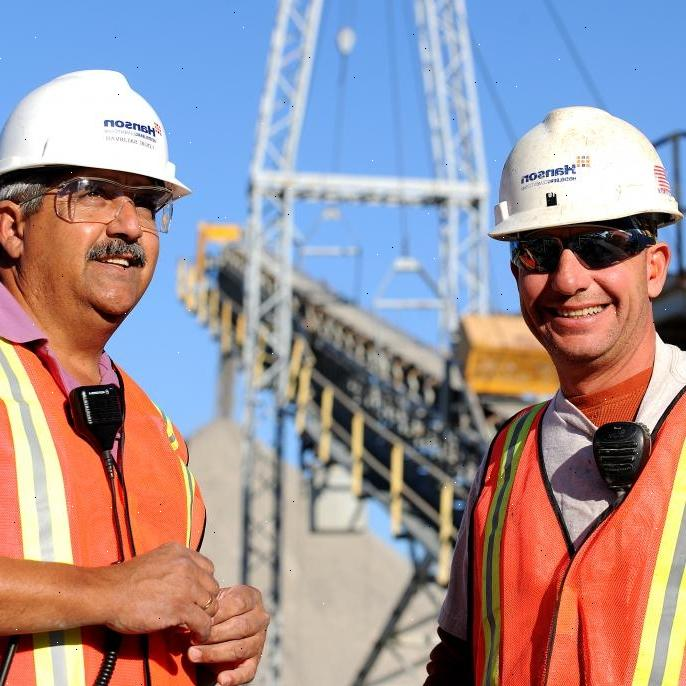helmet: (233, 6, 544, 288), (0, 56, 197, 207), (487, 101, 684, 248)
